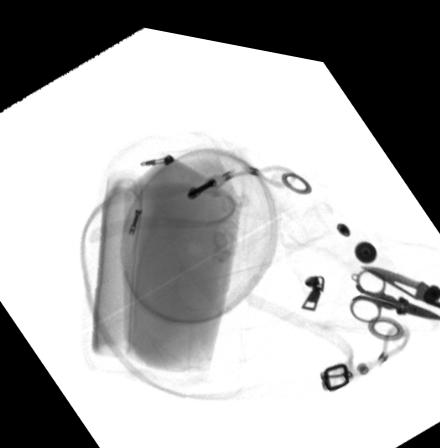Knife: (359, 251, 440, 291)
Scissors: (349, 252, 440, 309)
